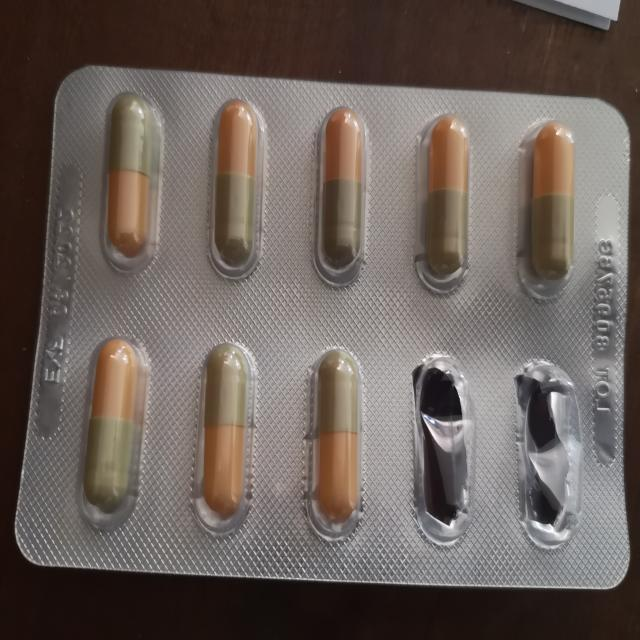Empty: (503, 351, 594, 554), (402, 340, 482, 548)
Pill: (69, 330, 154, 539), (91, 82, 174, 283), (296, 339, 374, 548), (186, 334, 263, 541), (198, 88, 278, 287), (304, 99, 380, 295), (406, 104, 478, 301), (511, 114, 584, 302)
